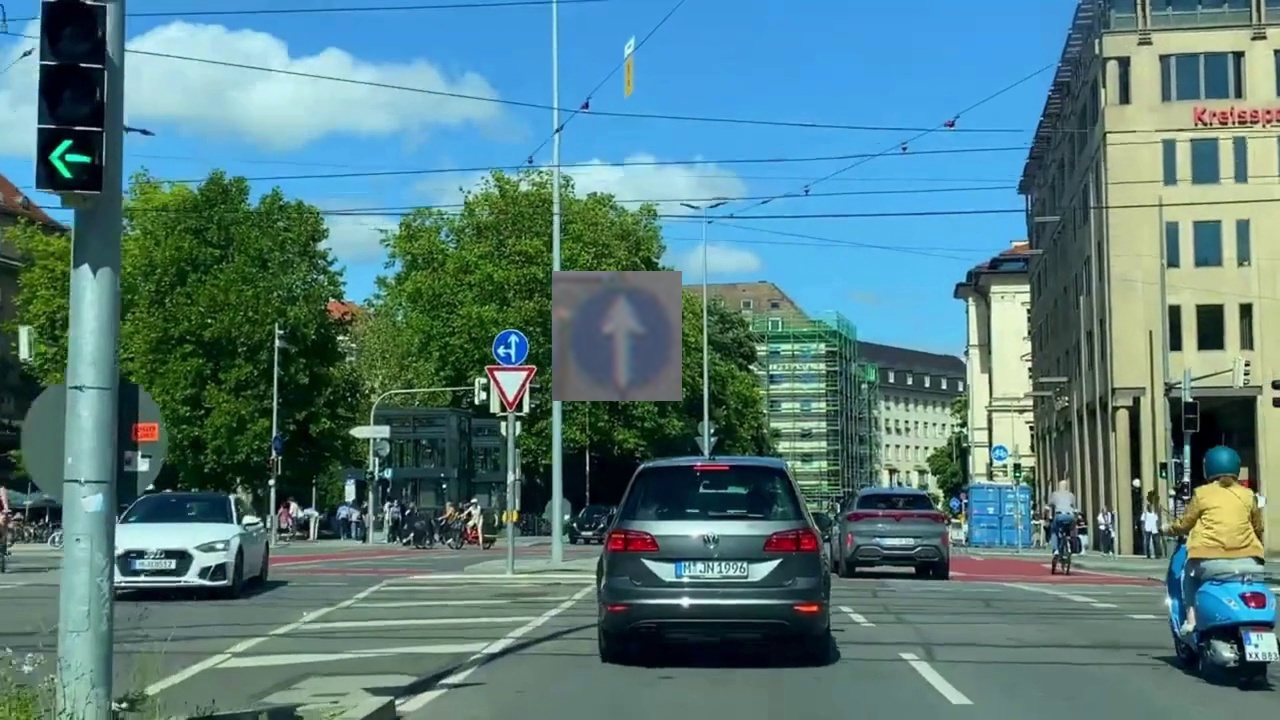Ahead only: (552, 271, 682, 401)
